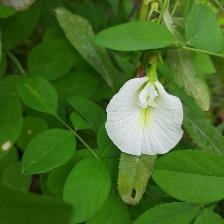shankupushpam: (101, 71, 189, 161)
